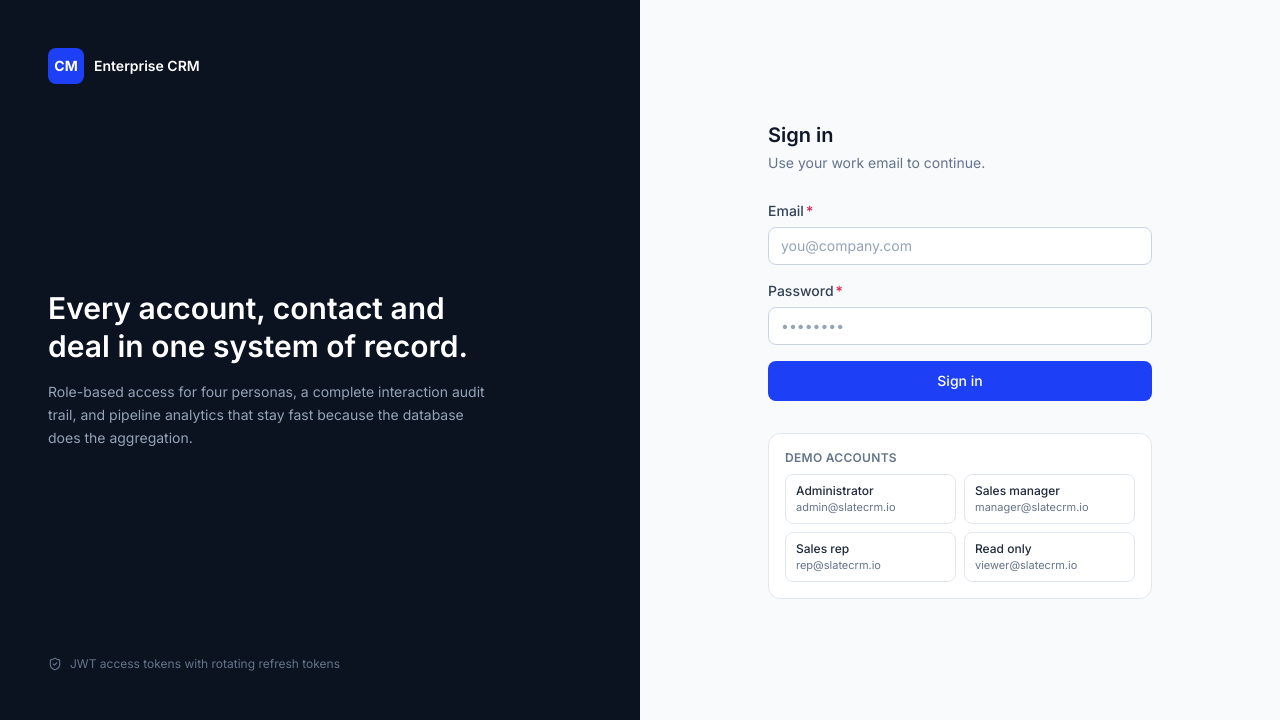
Test: <LoginPage /> › blocks submission and reports both fields when the form is empty
Step 1. Click the button "Sign in" → [960, 381], box [768, 361, 1152, 401]
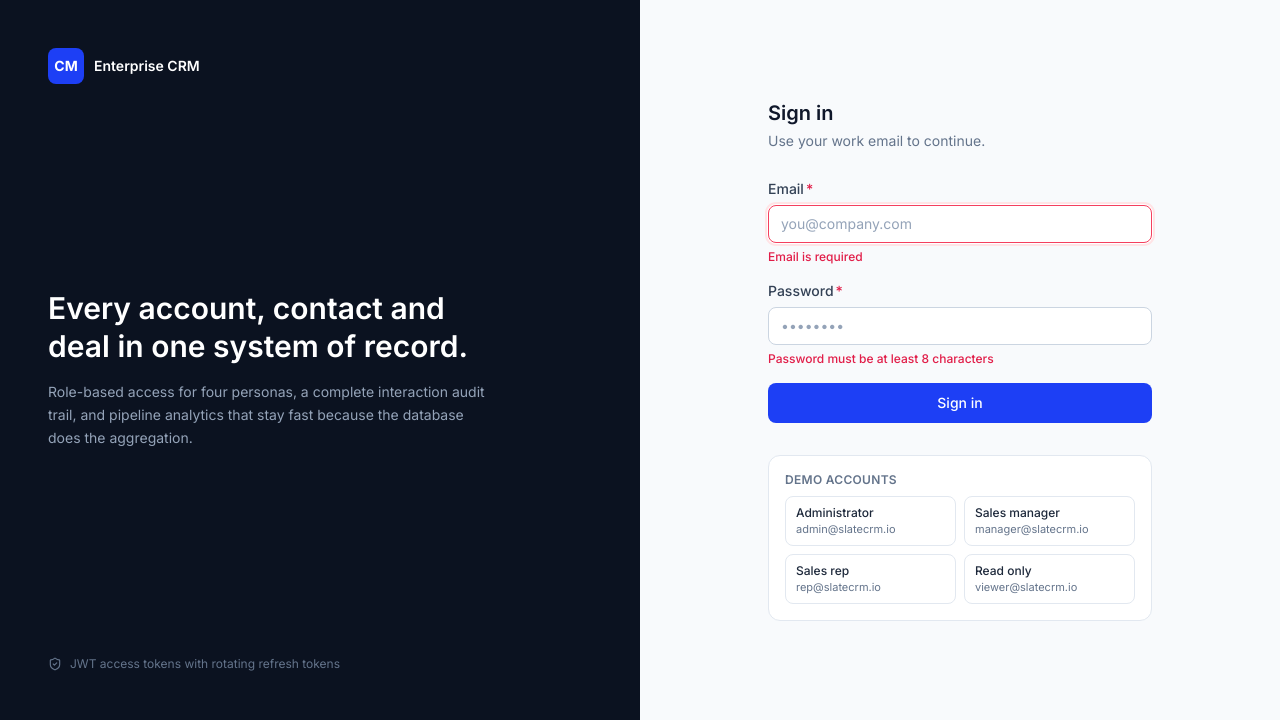
Now the text "Email is required" is shown, box [768, 249, 863, 264]
Now the text "Password must be at least 8 characters" is shown, box [768, 351, 994, 366]
